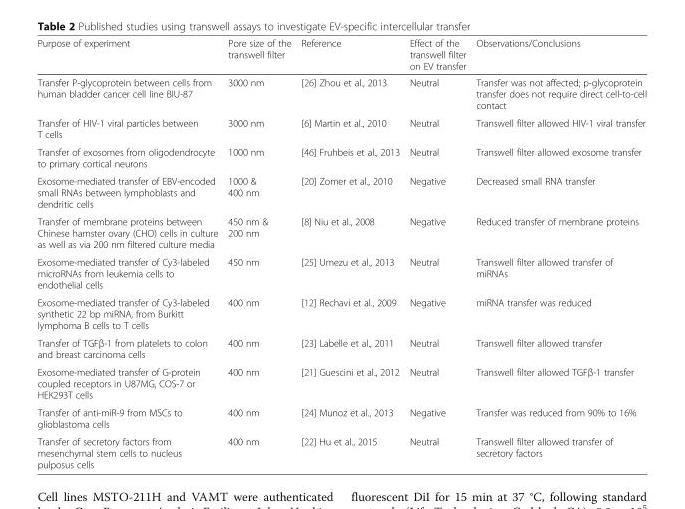table: (36, 37, 645, 469)
table column: (36, 37, 222, 469), (470, 37, 645, 469), (295, 37, 403, 469), (222, 37, 295, 469), (403, 37, 470, 469)
table column header: (36, 37, 645, 73)
table row: (36, 171, 645, 212), (36, 252, 645, 293), (36, 362, 645, 403), (36, 73, 645, 113), (36, 212, 645, 252), (36, 293, 645, 333), (36, 432, 645, 469), (36, 37, 645, 73), (36, 113, 645, 142), (36, 142, 645, 171), (36, 333, 645, 362), (36, 403, 645, 432)
